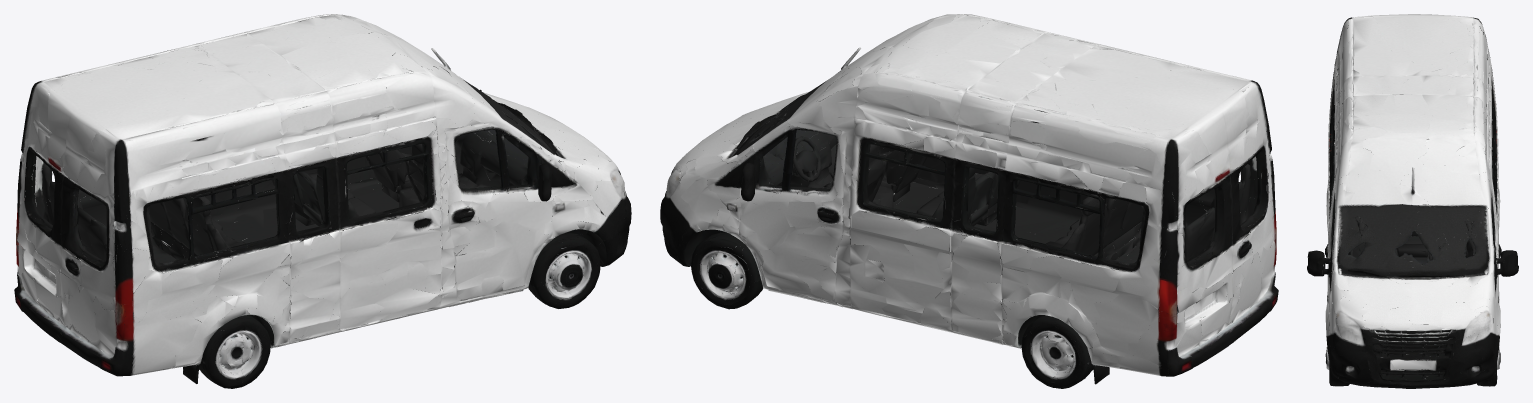
The model's file is van-passageiros__01a16c1b.glb.
3 renders of one model, left to right at view 1: azimuth 30°, elevation 25°; view 2: azimuth 150°, elevation 25°; view 3: azimuth 270°, elevation 25°, orthographic. The views are drawn at different scales.
Parts seen in each view (by area): view 1: van-passageiros; view 2: van-passageiros; view 3: van-passageiros.
Part boxes in pixels (<box>): van-passageiros: <box>14,14,631,388</box>; van-passageiros: <box>660,14,1278,388</box>; van-passageiros: <box>1307,14,1518,388</box>.
Bounding box in the file's own units: 5.95 × 2.79 × 2.61.
Materials: 1 (1 with a texture image).
